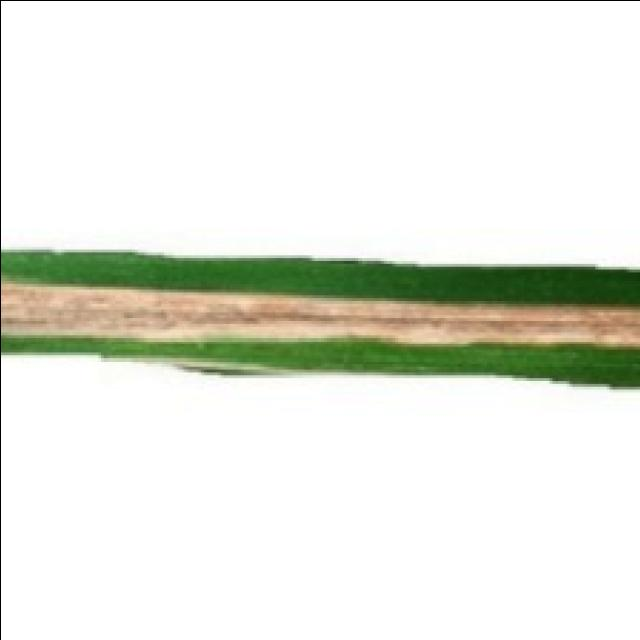Unhealthy: (0, 276, 640, 349), (103, 355, 284, 369)
